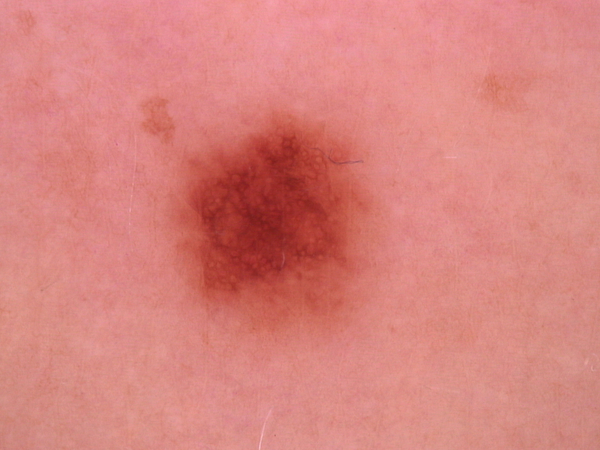Detected Lesion: (166, 103, 378, 346)
